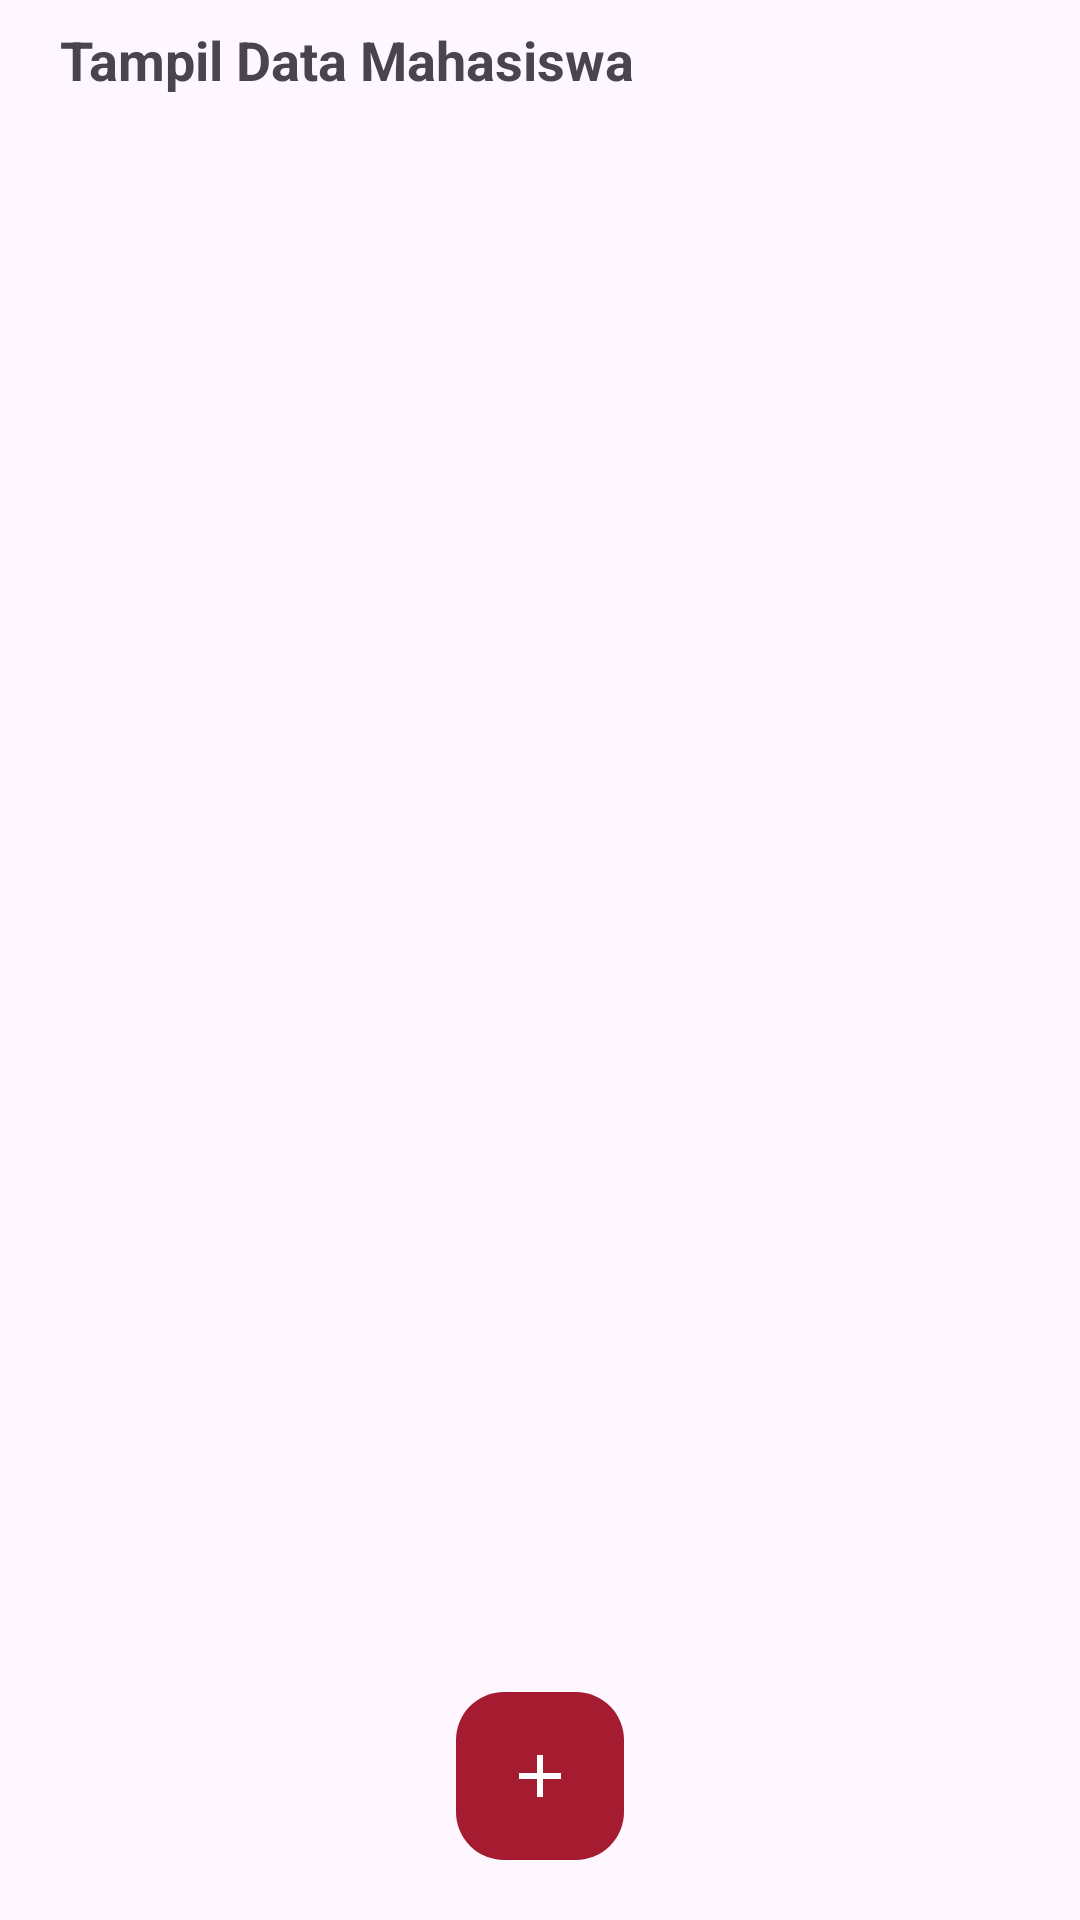

Named icons in this screenshot (1080 x 1920) and their centers, [x,y]:
add: [540,1776]
